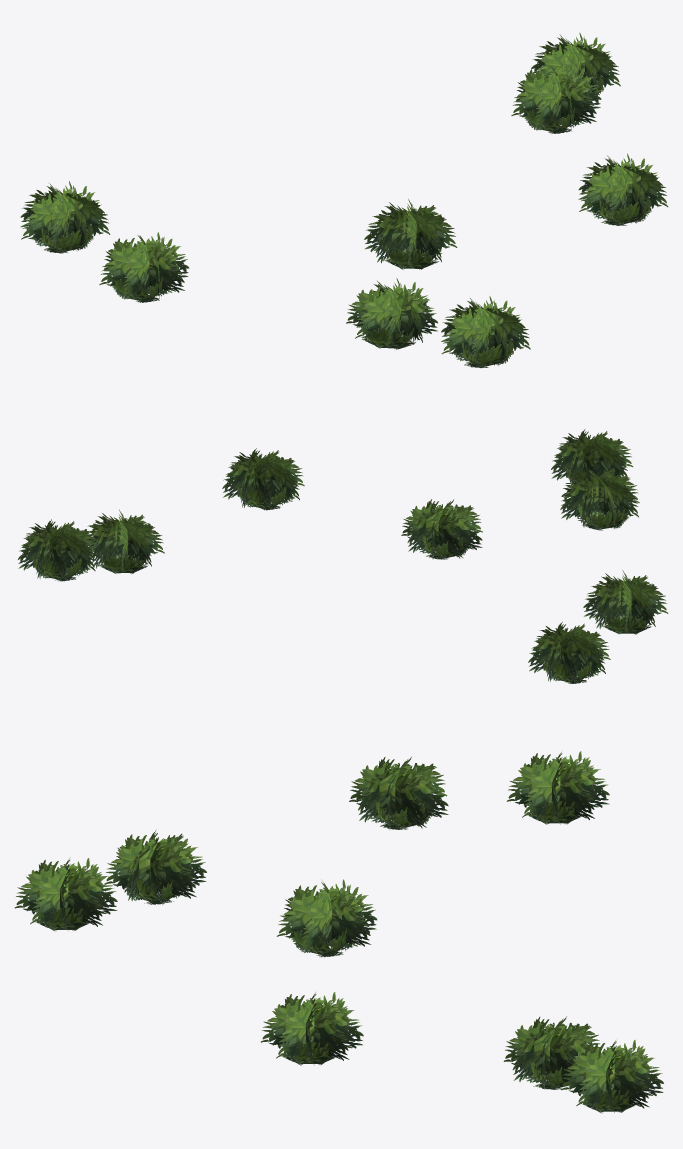
Rendered from Grass_5.fbx.
3 views of the same model, one above another, from view 1: azimuth 30°, elevation 25°; view 2: azimuth 150°, elevation 25°; view 3: azimuth 270°, elevation 25° (orthographic). The views are drawn at different scales.
Parts seen in each view (by area): view 1: Plane.050; view 2: Plane.050; view 3: Plane.050.
Boxes of the visible parts, x1,y1,x2,y2 form: Plane.050: (20, 32, 668, 368); Plane.050: (17, 429, 668, 683); Plane.050: (14, 751, 663, 1113).
Bounding box in the file's own units: 48.76 × 5 × 40.36.
Materials: 1 (1 with a texture image).
